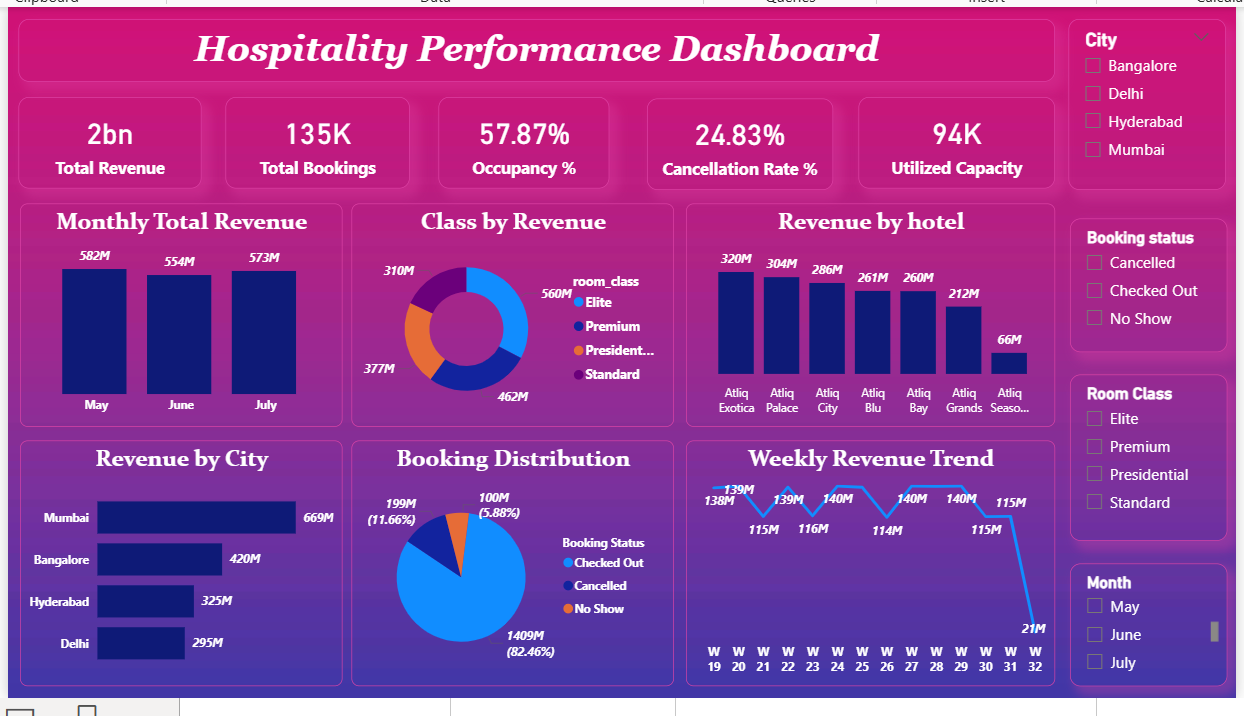

The dashboard page shown, as its layout file describes it:
{"tool":"powerbi","page":{"name":"Dashboard","canvas":[1280,720],"ordinal":6},"visuals":[{"type":"textbox","box":[10.9,12.5,1080,65.6],"z":0},{"type":"card","fields":{"Values":["hospitality_dp dim_date.Total Revenue"]},"box":[10.9,93.8,190.7,95.3],"z":1000},{"type":"card","fields":{"Values":["hospitality_dp dim_date.Total Bookings"]},"box":[662.7,93.8,192.2,95.3],"z":2000},{"type":"card","fields":{"Values":["hospitality_dp dim_date.Occupancy %"]},"box":[234.4,93.8,178.2,95.3],"z":3000},{"type":"donutChart","title":"Class by Revenue","fields":{"Category":["hospitality_dp dim_rooms.room_class"],"Y":["Sum(hospitality_dp fact_bookings.revenue_realized)"]},"box":[357.9,204.8,336,232.9],"z":4000},{"type":"slicer","fields":{"Values":["hospitality_dp dim_hotels.city"]},"box":[1105,12.5,164.1,162.6],"z":5000},{"type":"slicer","fields":{"Values":["hospitality_dp fact_bookings.booking_status"]},"box":[1106.6,204.8,164.1,154.7],"z":6000},{"type":"slicer","fields":{"Values":["hospitality_dp dim_rooms.room_class"]},"box":[1106.6,392.3,164.1,173.5],"z":7000},{"type":"slicer","fields":{"Values":["hospitality_dp dim_date.day_type"]},"box":[1105,589.2,164.1,118.8],"z":8000},{"type":"card","fields":{"Values":["hospitality_dp dim_date.Cancellation Rate %"]},"box":[445.5,95.3,193.8,95.3],"z":9000},{"type":"clusteredBarChart","title":"Revenue by City","fields":{"Category":["hospitality_dp dim_hotels.city"],"Y":["Sum(hospitality_dp fact_bookings.revenue_realized)"]},"box":[12.5,451.7,336,256.3],"z":10000},{"type":"pieChart","title":"Booking Distribution","fields":{"Category":["hospitality_dp fact_bookings.booking_status"],"Y":["Sum(hospitality_dp fact_bookings.revenue_realized)"]},"box":[357.9,451.7,336,256.3],"z":11000},{"type":"clusteredColumnChart","title":"Monthly Total Revenue","fields":{"Category":["hospitality_dp dim_date.mmm yy.Variation.Date Hierarchy.Month"],"Y":["Sum(hospitality_dp fact_bookings.revenue_realized)"]},"box":[12.5,204.8,336,232.9],"z":12000},{"type":"columnChart","title":"Revenue by hotel","fields":{"Category":["hospitality_dp dim_hotels.property_name"],"Y":["Sum(hospitality_dp fact_bookings.revenue_realized)"]},"box":[706.5,204.8,384.5,232.9],"z":13000},{"type":"lineChart","title":"Weekly Revenue Trend ","fields":{"Category":["hospitality_dp dim_date.week no"],"Y":["Sum(hospitality_dp fact_bookings.revenue_realized)"]},"box":[706.5,451.7,384.5,256.3],"z":14000},{"type":"card","fields":{"Values":["hospitality_dp dim_date.Utilized Capacity"]},"box":[886.2,93.8,204.8,95.3],"z":15000}]}

Visuals, with their boxes on the page's 1280x720 design canvas (x1, y1, x2, y2). These are canvas units, not pixel positions in the 1244x716 screenshot, which may show the page scaled, cropped or inside an application window:
textbox: Rect(11, 12, 1091, 78)
card - hospitality_dp dim_date.Total Revenue: Rect(11, 94, 202, 189)
card - hospitality_dp dim_date.Total Bookings: Rect(663, 94, 855, 189)
card - hospitality_dp dim_date.Occupancy %: Rect(234, 94, 413, 189)
"Class by Revenue" donutChart: Rect(358, 205, 694, 438)
slicer - hospitality_dp dim_hotels.city: Rect(1105, 12, 1269, 175)
slicer - hospitality_dp fact_bookings.booking_status: Rect(1107, 205, 1271, 360)
slicer - hospitality_dp dim_rooms.room_class: Rect(1107, 392, 1271, 566)
slicer - hospitality_dp dim_date.day_type: Rect(1105, 589, 1269, 708)
card - hospitality_dp dim_date.Cancellation Rate %: Rect(446, 95, 639, 191)
"Revenue by City" clusteredBarChart: Rect(12, 452, 348, 708)
"Booking Distribution" pieChart: Rect(358, 452, 694, 708)
"Monthly Total Revenue" clusteredColumnChart: Rect(12, 205, 348, 438)
"Revenue by hotel" columnChart: Rect(706, 205, 1091, 438)
"Weekly Revenue Trend " lineChart: Rect(706, 452, 1091, 708)
card - hospitality_dp dim_date.Utilized Capacity: Rect(886, 94, 1091, 189)
